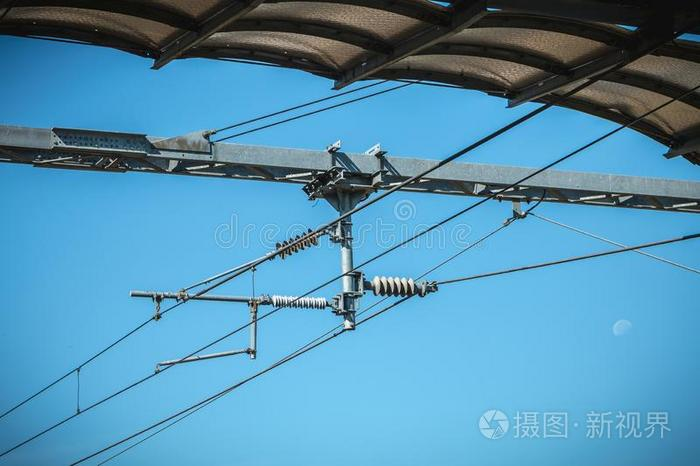insulator: (369, 275, 418, 300)
